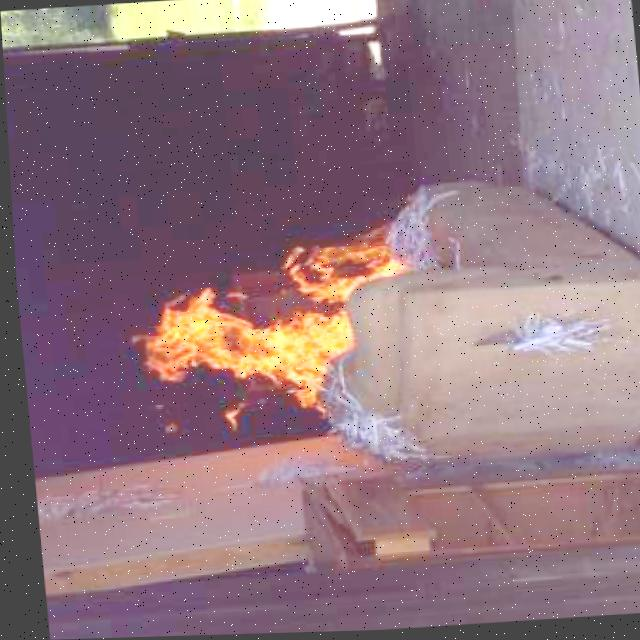Fire: (125, 236, 414, 413)
